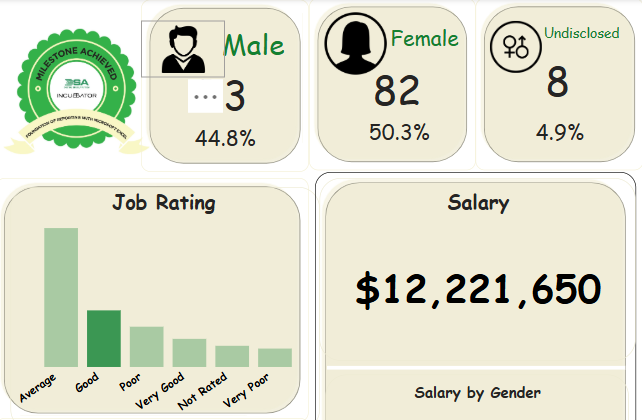

The page's visual inventory and layout, read from the dashboard file:
{"tool":"powerbi","page":{"name":"🏡  Home","canvas":[1280,720],"ordinal":0},"visuals":[{"type":"shape","box":[0,8.1,278.5,712.5],"z":0},{"type":"shape","box":[278.5,8.1,306,186.2],"z":1000},{"type":"textbox","box":[289.8,53.4,283.4,152.2],"z":2000},{"type":"image","box":[0,35.6,278.5,93.9],"z":3000},{"type":"shape","box":[393.5,21,76.1,66.4],"z":4000},{"type":"shape","box":[416.1,35.6,32.4,38.9],"z":5000},{"type":"image","box":[584.5,14.6,168.4,173.3],"z":6000},{"type":"shape","box":[738.4,1.6,181.4,186.2],"z":7000},{"type":"shape","box":[919.7,0,179.7,186.2],"z":8000},{"type":"shape","box":[1099.5,0,181.4,186.2],"z":9000},{"type":"shape","box":[278.5,194.3,306,526.2],"z":10000},{"type":"shape","box":[291.5,445.3,283.4,24.3],"z":11000},{"type":"pageNavigator","box":[37.2,325.5,181.4,343.3],"z":12000},{"type":"card","title":"Male","fields":{"Values":["Palmoria Group emp-data (1).Male"]},"box":[754.6,27.5,149,108.5],"z":13000},{"type":"card","fields":{"Values":["Palmoria Group emp-data (1).% Male"]},"box":[782.1,129.5,93.9,45.3],"z":14000},{"type":"image","box":[738.4,24.3,90.7,61.5],"z":15000},{"type":"card","title":"Female","fields":{"Values":["Palmoria Group emp-data (1).Female"]},"box":[942.4,27.5,149,108.5],"z":16000},{"type":"card","fields":{"Values":["Palmoria Group emp-data (1).% Female"]},"box":[970.2,122.3,93.9,45.3],"z":17000},{"type":"image","box":[931.1,8.1,77.7,82.6],"z":18000},{"type":"card","title":"Undisclosed","fields":{"Values":["Palmoria Group emp-data (1).Undisclosed"]},"box":[1115.6,21,149,108.5],"z":19000},{"type":"card","fields":{"Values":["Palmoria Group emp-data (1).% Undisclosed"]},"box":[1143.2,123.1,93.9,45.3],"z":20000},{"type":"image","box":[1089.7,19.4,106.9,66.4],"z":21000},{"type":"barChart","title":"Employee by Region","fields":{"Category":["Palmoria Group emp-data (1).Location"],"Y":["Palmoria Group emp-data (1).Total Emp"]},"box":[286.6,205.6,293.1,239.6],"z":22000},{"type":"columnChart","title":"Employee by Deoartment","fields":{"Category":["Palmoria Group emp-data (1).Department"],"Y":["Palmoria Group emp-data (1).Total Emp"]},"box":[287.6,453.7,277.5,267.3],"z":23000},{"type":"shape","box":[581.3,194.4,338.2,263.3],"z":24000},{"type":"columnChart","title":"Job Rating","fields":{"Category":["Palmoria Group emp-data (1).Rating"],"Y":["Palmoria Group emp-data (1).Total Emp"]},"box":[597.5,204.6,334.2,263.3],"z":25000},{"type":"shape","box":[581.3,453.4,338.4,267.2],"z":26000},{"type":"shape","box":[926.2,187.8,346.5,532.7],"z":27000},{"type":"card","title":"Salary","fields":{"Values":["Sum(Palmoria Group emp-data (1).Salary)"]},"box":[931.1,194.3,341.7,197.5],"z":28000},{"type":"donutChart","title":"Salary by Gender","fields":{"Y":["Sum(Palmoria Group emp-data (1).Salary)"],"Category":["Palmoria Group emp-data (1).Gender"]},"box":[937.5,406.4,327.1,309.3],"z":29000},{"type":"shape","box":[939.2,391.9,322.2,14.6],"z":30000},{"type":"pieChart","title":" Salary by Location","fields":{"Category":["Palmoria Group emp-data (1).Location"],"Y":["Sum(Palmoria Group emp-data (1).Salary)"]},"box":[597.5,463.1,306,244.5],"z":31000},{"type":"card","title":"Total Employee","fields":{"Values":["Palmoria Group emp-data (1).Total Emp"]},"box":[36.5,206.6,208.6,131.6],"z":32000},{"type":"shape","box":[9.7,187.8,260.7,17.8],"z":33000}]}

Visuals, with their boxes on the page's 1280x720 design canvas (x1, y1, x2, y2). These are canvas units, not pixel positions in the 642x420 screenshot, which may show the page scaled, cropped or inside an application window:
shape: l=0, t=8, r=278, b=721
shape: l=278, t=8, r=584, b=194
textbox: l=290, t=53, r=573, b=206
image: l=0, t=36, r=278, b=130
shape: l=394, t=21, r=470, b=87
shape: l=416, t=36, r=448, b=74
image: l=584, t=15, r=753, b=188
shape: l=738, t=2, r=920, b=188
shape: l=920, t=0, r=1099, b=186
shape: l=1100, t=0, r=1281, b=186
shape: l=278, t=194, r=584, b=720
shape: l=292, t=445, r=575, b=470
pageNavigator: l=37, t=326, r=219, b=669
"Male" card: l=755, t=28, r=904, b=136
card - Palmoria Group emp-data (1).% Male: l=782, t=130, r=876, b=175
image: l=738, t=24, r=829, b=86
"Female" card: l=942, t=28, r=1091, b=136
card - Palmoria Group emp-data (1).% Female: l=970, t=122, r=1064, b=168
image: l=931, t=8, r=1009, b=91
"Undisclosed" card: l=1116, t=21, r=1265, b=130
card - Palmoria Group emp-data (1).% Undisclosed: l=1143, t=123, r=1237, b=168
image: l=1090, t=19, r=1197, b=86
"Employee by Region" barChart: l=287, t=206, r=580, b=445
"Employee by Deoartment" columnChart: l=288, t=454, r=565, b=721
shape: l=581, t=194, r=920, b=458
"Job Rating" columnChart: l=598, t=205, r=932, b=468
shape: l=581, t=453, r=920, b=721
shape: l=926, t=188, r=1273, b=720
"Salary" card: l=931, t=194, r=1273, b=392
"Salary by Gender" donutChart: l=938, t=406, r=1265, b=716
shape: l=939, t=392, r=1261, b=406
" Salary by Location" pieChart: l=598, t=463, r=904, b=708
"Total Employee" card: l=36, t=207, r=245, b=338
shape: l=10, t=188, r=270, b=206
